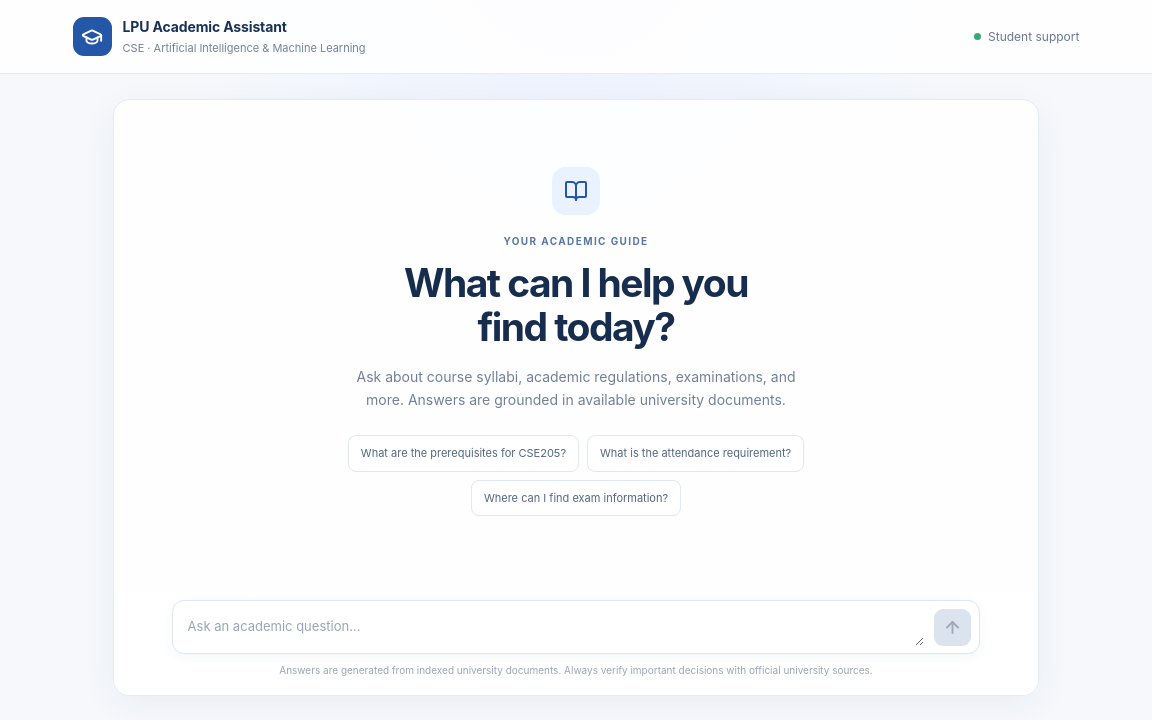
chat interface › renders partial evidence response from the API
The image size is (1152, 720).
In the text box named "Your question": x=556, y=627 [188,608,924,646], type "Tell me about the policy"
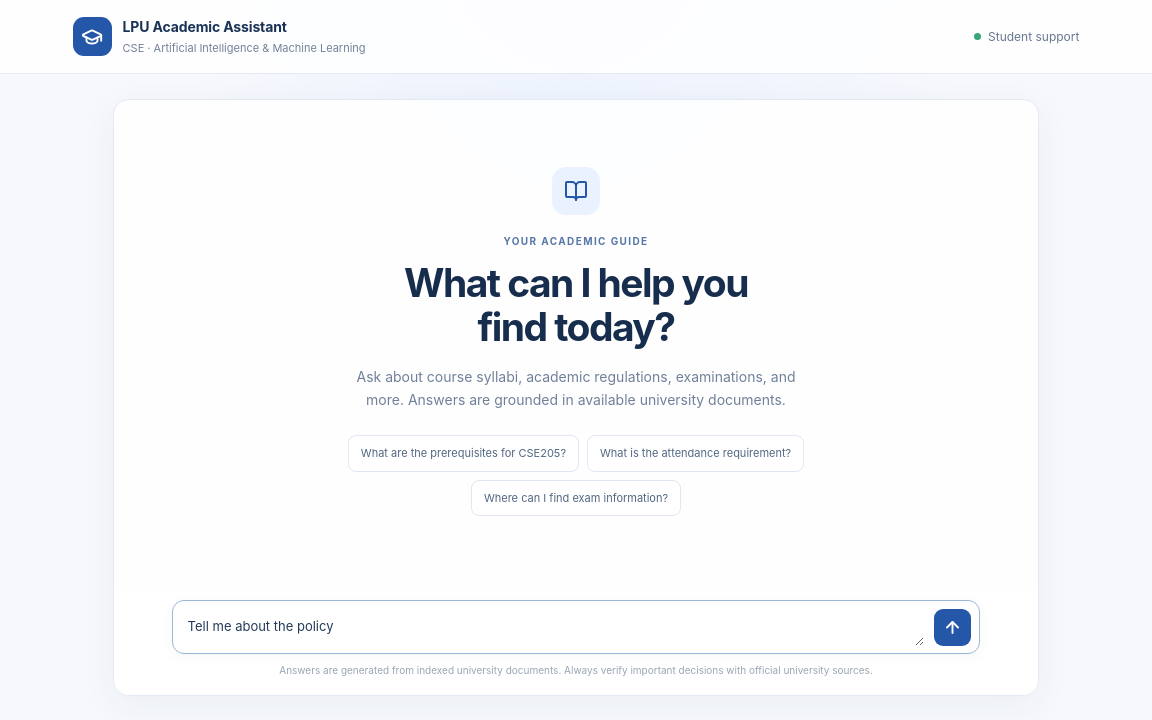
Click the button named "Send message": x=953, y=628 [934,609,971,646]
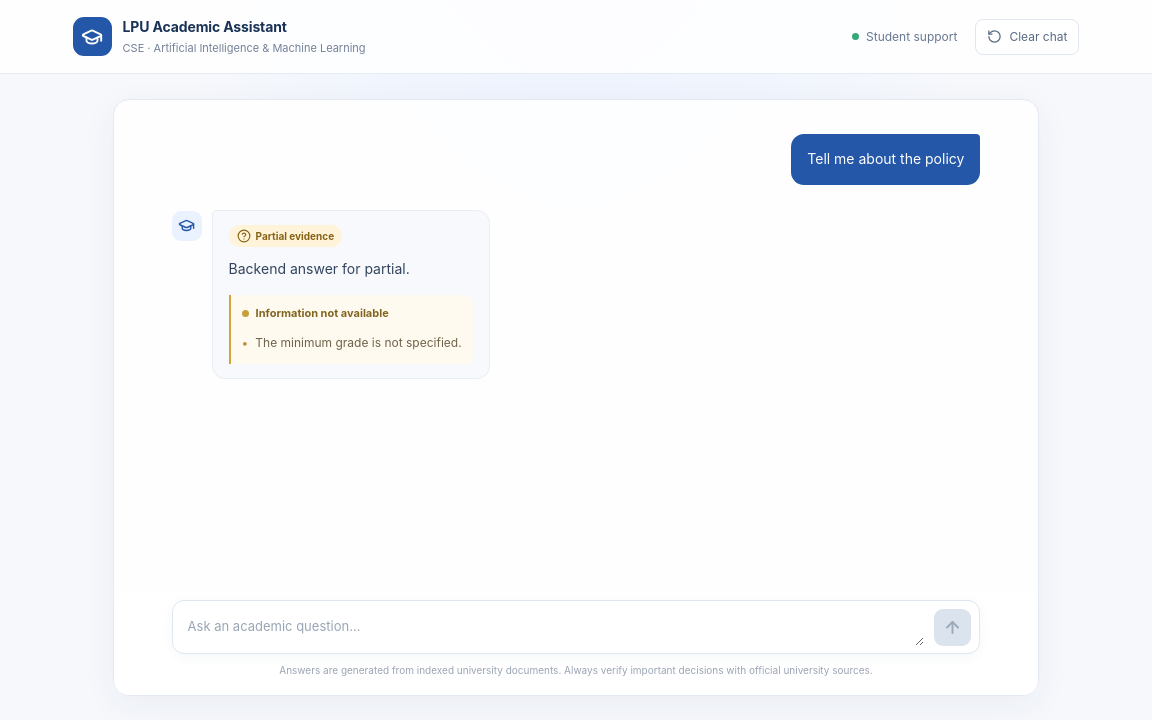
Now the list item "The minimum grade is not specified." is shown, box [242,331,462,354]
